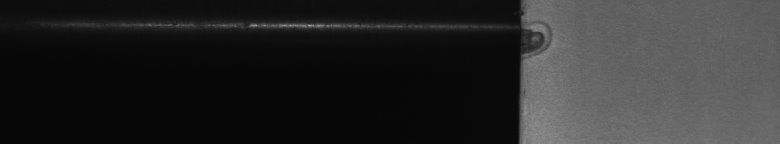hb: (532, 18, 556, 60)
